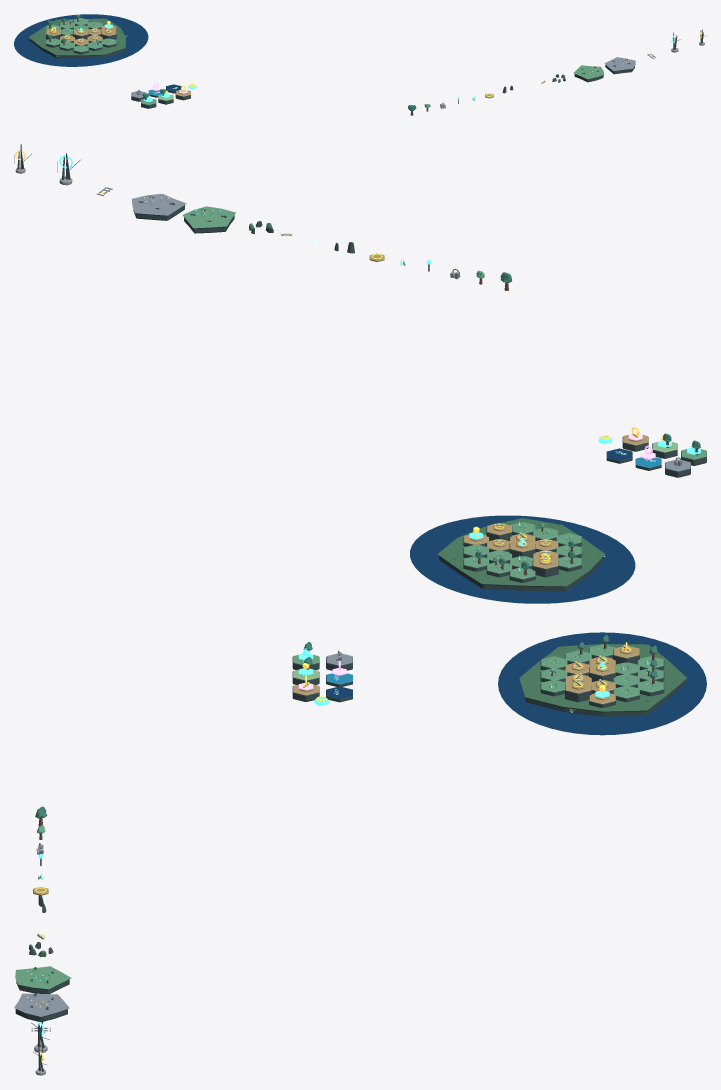
File: CH01_MAP_KIT_R8.glb
3 views of the same model, one above another, from view 1: azimuth 30°, elevation 25°; view 2: azimuth 150°, elevation 25°; view 3: azimuth 270°, elevation 25° (orthographic). The views are drawn at different scales.
Parts seen in each view (by area): view 1: MAP_CONTINUOUS_TIDE, MAP_AUTHORED_ISLAND_SHELF, PROP_TERRAIN_RUIN_BED, PROP_TERRAIN_FOREST_BED; view 2: MAP_CONTINUOUS_TIDE, MAP_AUTHORED_ISLAND_SHELF, PROP_TERRAIN_RUIN_BED, PROP_TERRAIN_FOREST_BED; view 3: MAP_CONTINUOUS_TIDE, MAP_AUTHORED_ISLAND_SHELF, PROP_TERRAIN_RUIN_BED, PROP_TERRAIN_FOREST_BED.
Boxes of the visible parts, x1,y1,x2,y2 form: MAP_CONTINUOUS_TIDE: (14, 14, 148, 66); MAP_AUTHORED_ISLAND_SHELF: (28, 18, 125, 58); PROP_TERRAIN_RUIN_BED: (604, 57, 635, 74); PROP_TERRAIN_FOREST_BED: (573, 65, 604, 82); MAP_CONTINUOUS_TIDE: (410, 515, 635, 603); MAP_AUTHORED_ISLAND_SHELF: (437, 518, 605, 591); PROP_TERRAIN_RUIN_BED: (132, 193, 186, 220); PROP_TERRAIN_FOREST_BED: (182, 206, 235, 233); MAP_CONTINUOUS_TIDE: (498, 632, 706, 735); MAP_AUTHORED_ISLAND_SHELF: (519, 644, 686, 716); PROP_TERRAIN_RUIN_BED: (14, 993, 69, 1022); PROP_TERRAIN_FOREST_BED: (15, 966, 71, 993).
Size of the model in its own units: 67.88 by 2.81 by 44.43.
